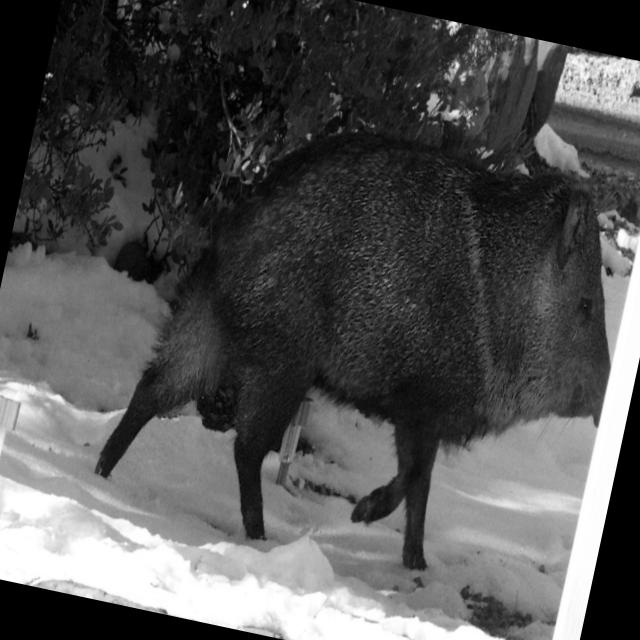pig: (93, 132, 610, 573)
